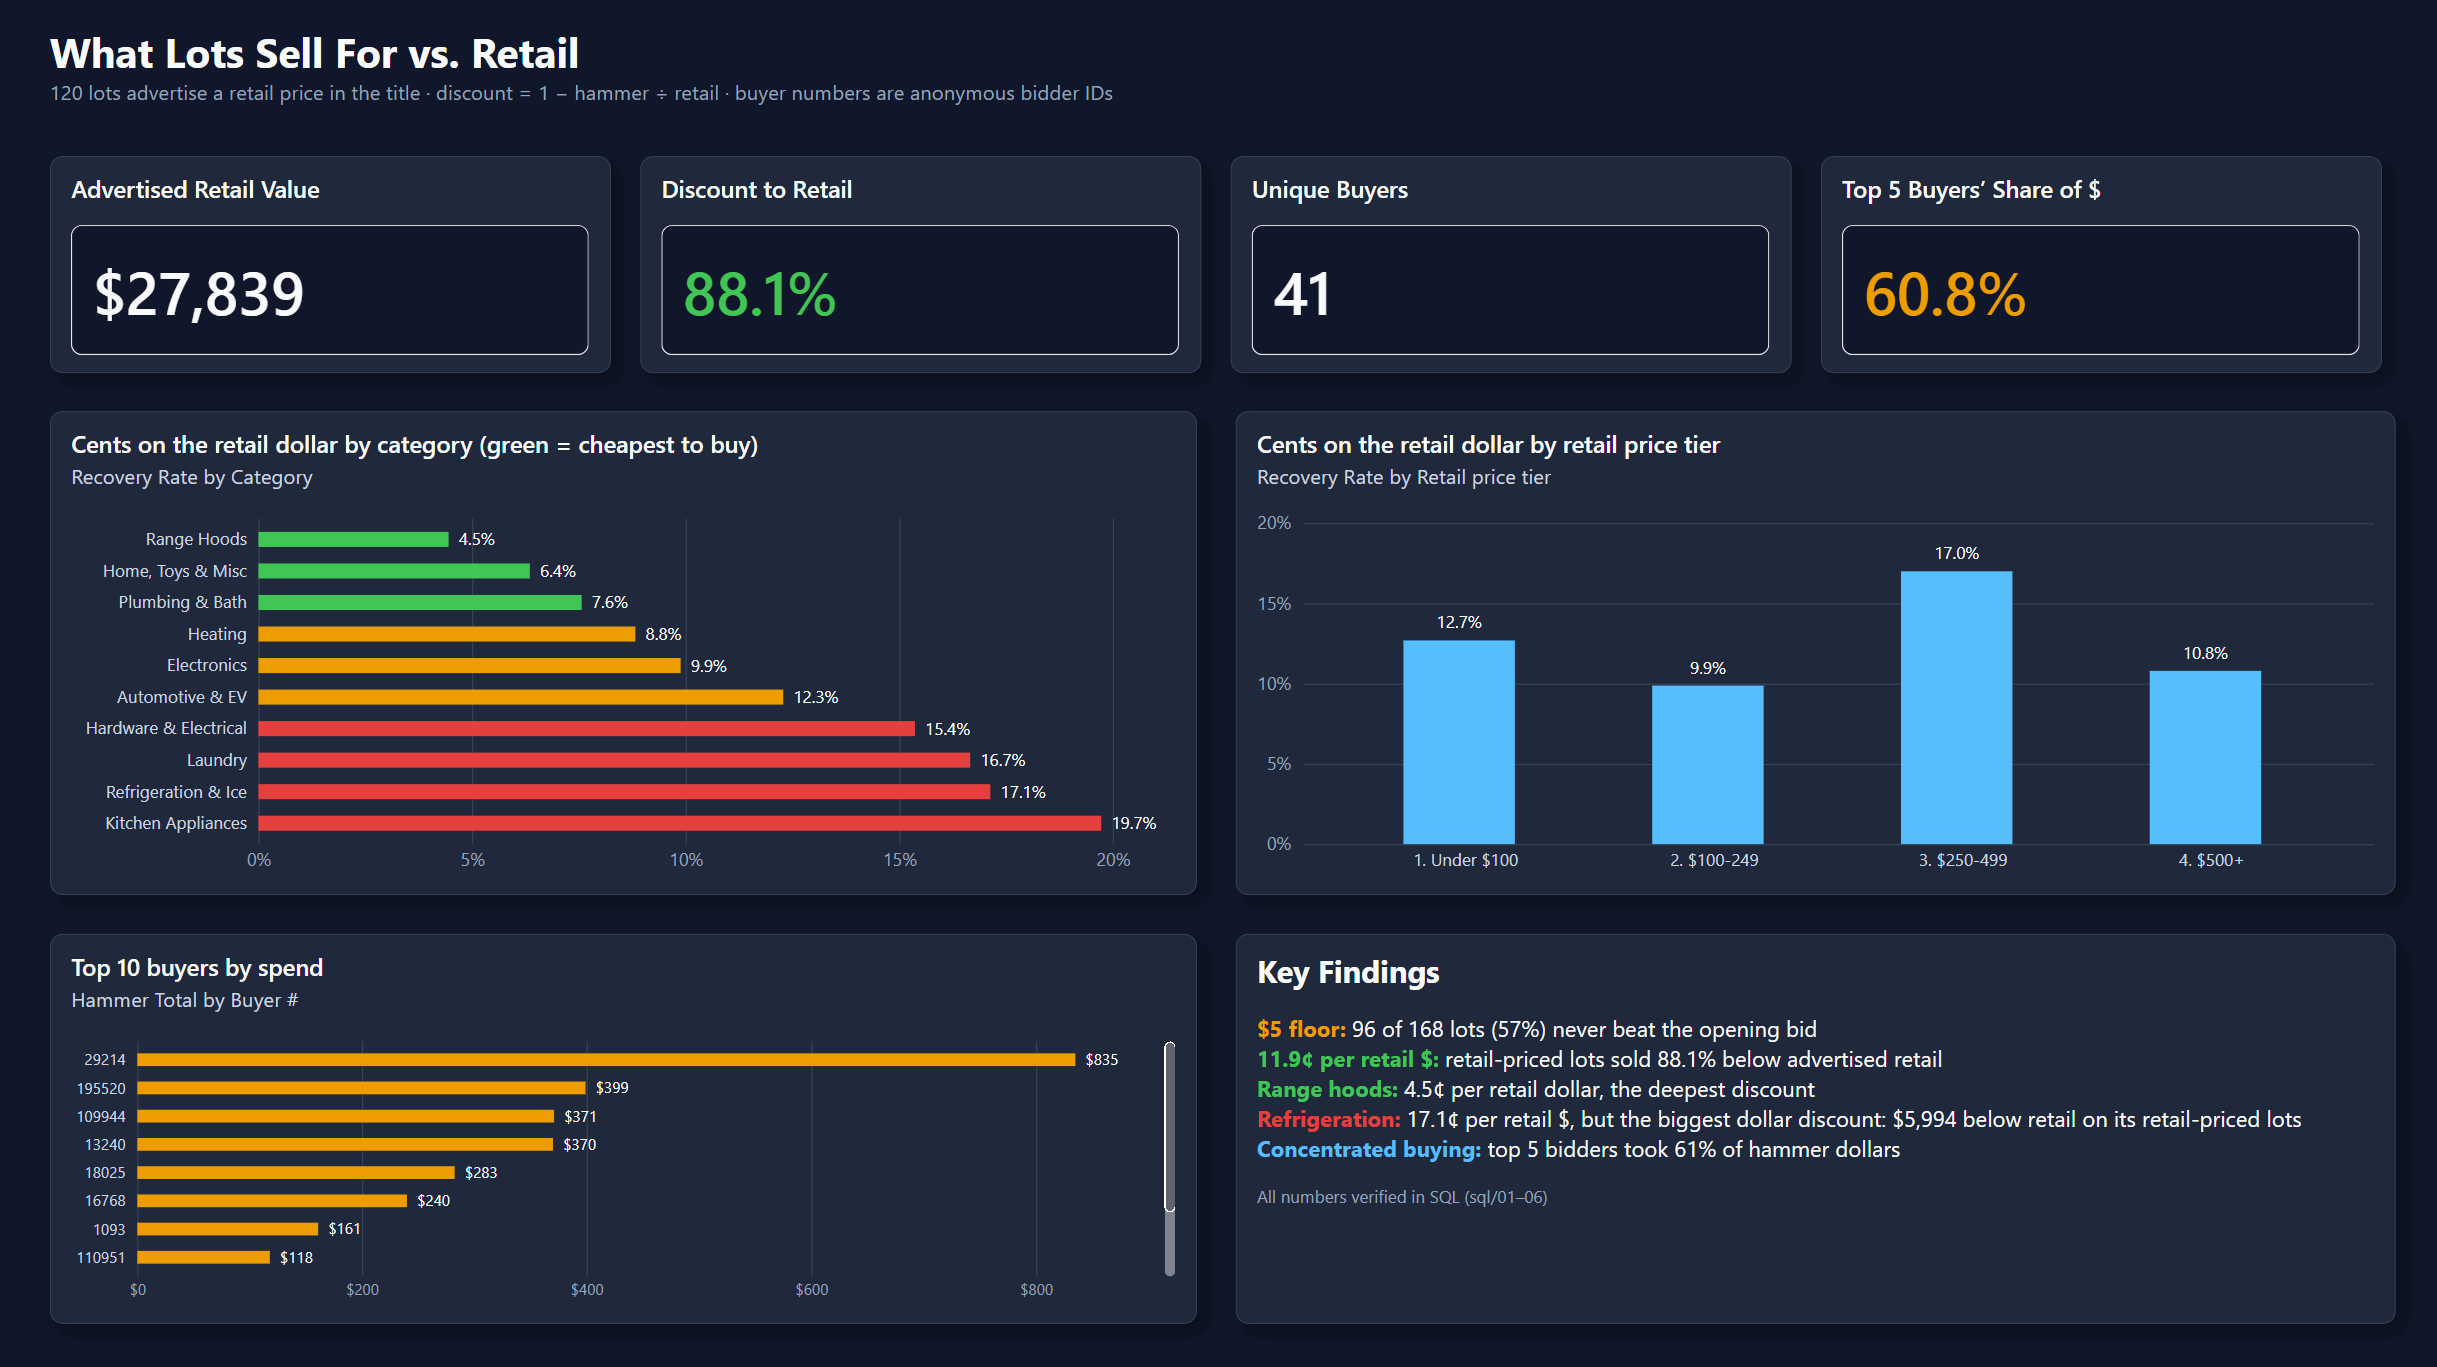

The dashboard page shown, as its layout file describes it:
{"tool":"powerbi","page":{"name":"Retail Discount & Buyers","canvas":[1920,1080],"ordinal":1},"visuals":[{"type":"textbox","box":[40,20,1340,84],"z":100},{"type":"cardVisual","title":"Advertised Retail Value","fields":{"Data":["_Measures.Retail Value"]},"box":[40,124,440,170],"z":200},{"type":"cardVisual","title":"Discount to Retail","fields":{"Data":["_Measures.Discount to Retail"]},"box":[503,124,440,170],"z":200},{"type":"cardVisual","title":"Unique Buyers","fields":{"Data":["_Measures.Unique Buyers"]},"box":[966,124,440,170],"z":200},{"type":"cardVisual","title":"Top 5 Buyers’ Share of $","fields":{"Data":["_Measures.Top 5 Buyer Share"]},"box":[1429,124,440,170],"z":200},{"type":"clusteredBarChart","title":"Cents on the retail dollar by category (green = cheapest to buy)","fields":{"Category":["FactLots.category"],"Y":["_Measures.Recovery Rate"]},"box":[40,324,900,380],"z":300},{"type":"clusteredColumnChart","title":"Cents on the retail dollar by retail price tier","fields":{"Category":["FactLots.retail_tier"],"Y":["_Measures.Recovery Rate"]},"box":[970,324,910,380],"z":300},{"type":"clusteredBarChart","title":"Top 10 buyers by spend","fields":{"Category":["FactLots.buyer_id"],"Y":["_Measures.Hammer Total"]},"box":[40,734,900,306],"z":300},{"type":"textbox","box":[970,734,910,306],"z":400}]}

Visuals, with their boxes in screenshot pixels (x1, y1, x2, y2), scaled from the page's 1920x1080 canvas onto the 2437x1367 screenshot:
textbox: crop(51, 25, 1752, 132)
"Advertised Retail Value" cardVisual: crop(51, 157, 609, 372)
"Discount to Retail" cardVisual: crop(638, 157, 1197, 372)
"Unique Buyers" cardVisual: crop(1226, 157, 1785, 372)
"Top 5 Buyers’ Share of $" cardVisual: crop(1814, 157, 2372, 372)
"Cents on the retail dollar by category (green = cheapest to buy)" clusteredBarChart: crop(51, 410, 1193, 891)
"Cents on the retail dollar by retail price tier" clusteredColumnChart: crop(1231, 410, 2386, 891)
"Top 10 buyers by spend" clusteredBarChart: crop(51, 929, 1193, 1316)
textbox: crop(1231, 929, 2386, 1316)
